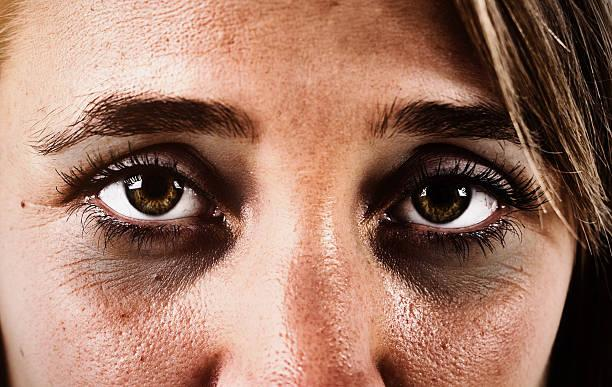Eyebags: (66, 208, 235, 300), (370, 217, 528, 306)
